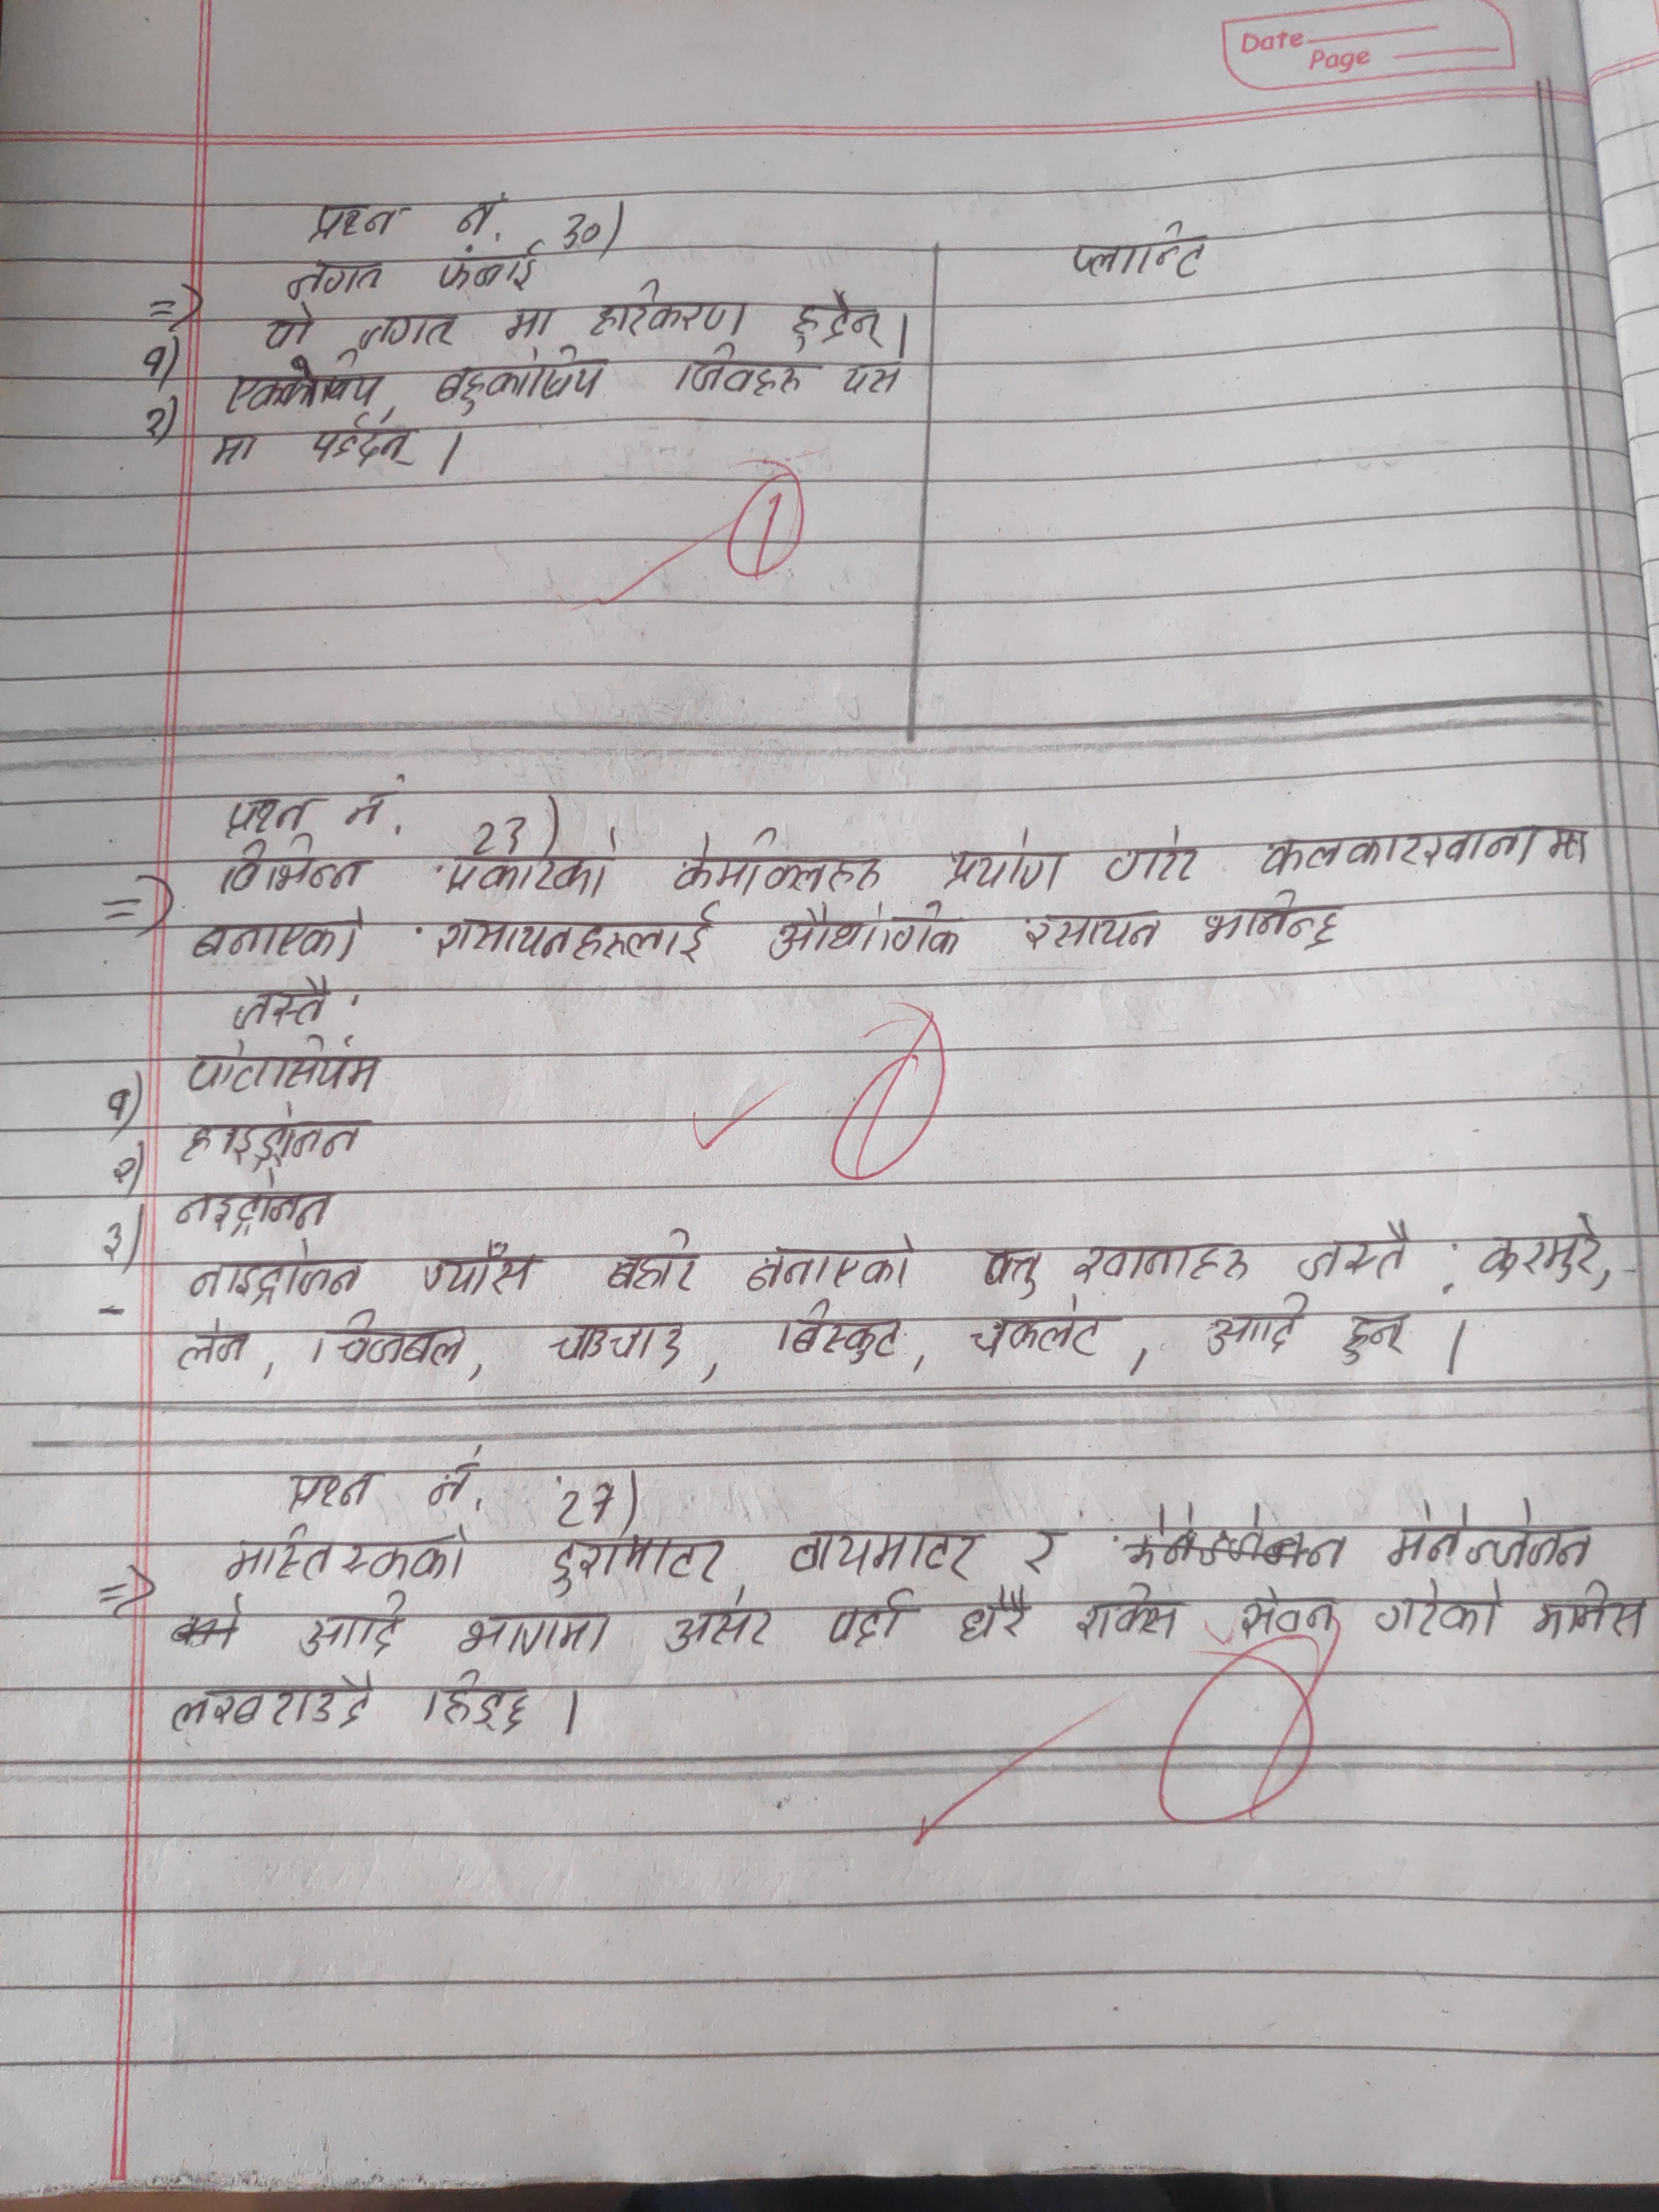text: (434, 902, 721, 968), (1255, 819, 1596, 869), (1387, 1494, 1593, 1575), (225, 1524, 471, 1587), (673, 829, 882, 899), (784, 1524, 990, 1585), (186, 900, 369, 967), (758, 900, 962, 960), (167, 1672, 376, 1730), (429, 355, 617, 418), (183, 1242, 366, 1305), (171, 1170, 342, 1237), (540, 1531, 735, 1588), (742, 1233, 911, 1299), (587, 277, 756, 341), (1473, 1207, 1607, 1287), (1065, 219, 1215, 291), (173, 1113, 366, 1167), (183, 1045, 380, 1096), (308, 1312, 471, 1372), (774, 1299, 910, 1369), (1068, 1238, 1255, 1287), (1528, 1578, 1654, 1649), (216, 841, 376, 897), (540, 1317, 687, 1378), (1373, 1578, 1507, 1644), (964, 1305, 1105, 1367), (443, 848, 612, 900), (225, 361, 387, 415), (444, 1608, 615, 1658), (943, 829, 1063, 900), (1195, 890, 1342, 948), (422, 1669, 538, 1740), (673, 340, 810, 399), (415, 1242, 540, 1305), (1291, 1217, 1417, 1280), (298, 1590, 410, 1660), (1197, 1291, 1309, 1360), (1230, 1580, 1340, 1644), (308, 413, 422, 474), (606, 1228, 699, 1299), (1077, 1583, 1185, 1644), (1021, 911, 1171, 954), (791, 286, 887, 354), (660, 1604, 779, 1658), (823, 1588, 924, 1649), (225, 974, 331, 1029), (1108, 829, 1206, 887), (436, 244, 545, 294), (1335, 1298, 1412, 1369), (281, 1463, 385, 1512), (301, 200, 411, 244), (281, 260, 387, 301), (957, 1588, 1032, 1648), (176, 1318, 253, 1376), (978, 1244, 1047, 1306), (350, 312, 464, 350), (422, 1453, 488, 1517), (221, 792, 314, 838), (260, 301, 317, 355), (342, 779, 394, 836), (1014, 1519, 1063, 1580), (842, 359, 911, 399), (450, 193, 509, 240), (211, 421, 260, 474), (497, 301, 558, 341)
